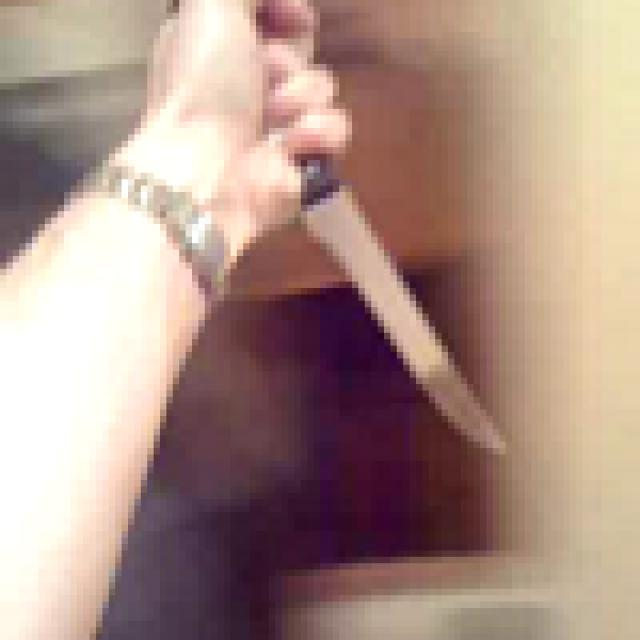weapon: (173, 0, 525, 474)
